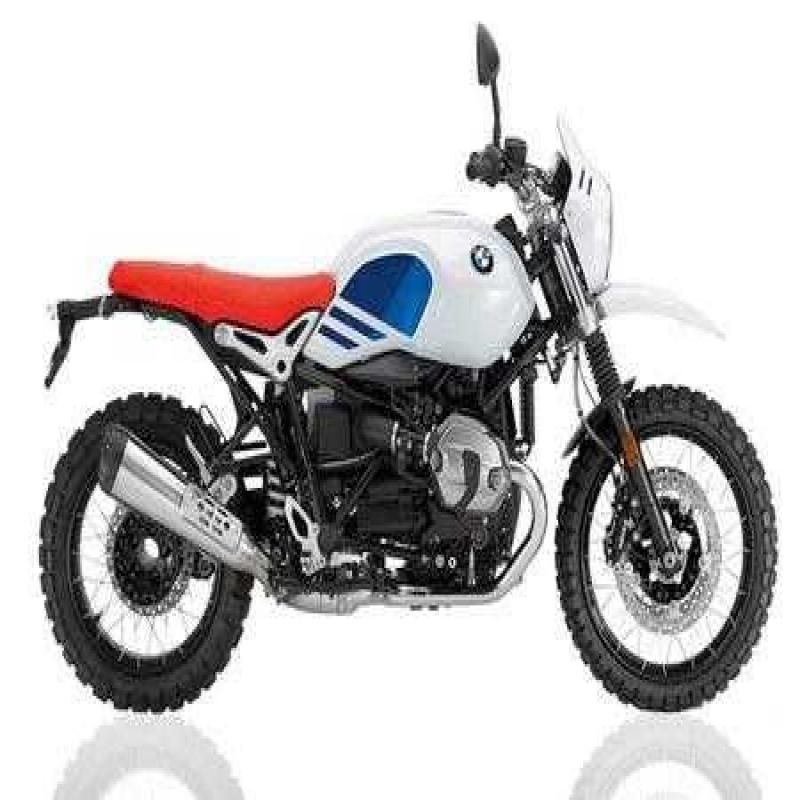bike: (29, 66, 783, 693)
